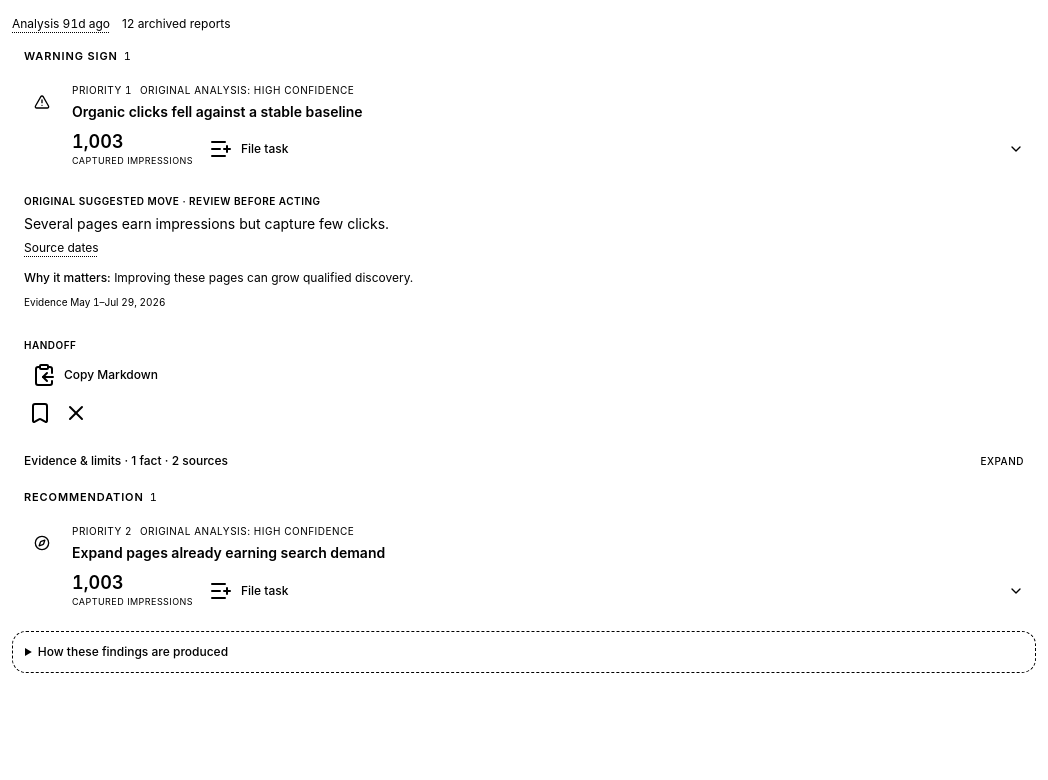
ExecutiveFindingsList decisions live in the OS › answers a dismissal with Undo instead of a reversibility sentence
Click the button named "Dismiss" at (76, 413), box x1=60 y1=397 x2=92 y2=429
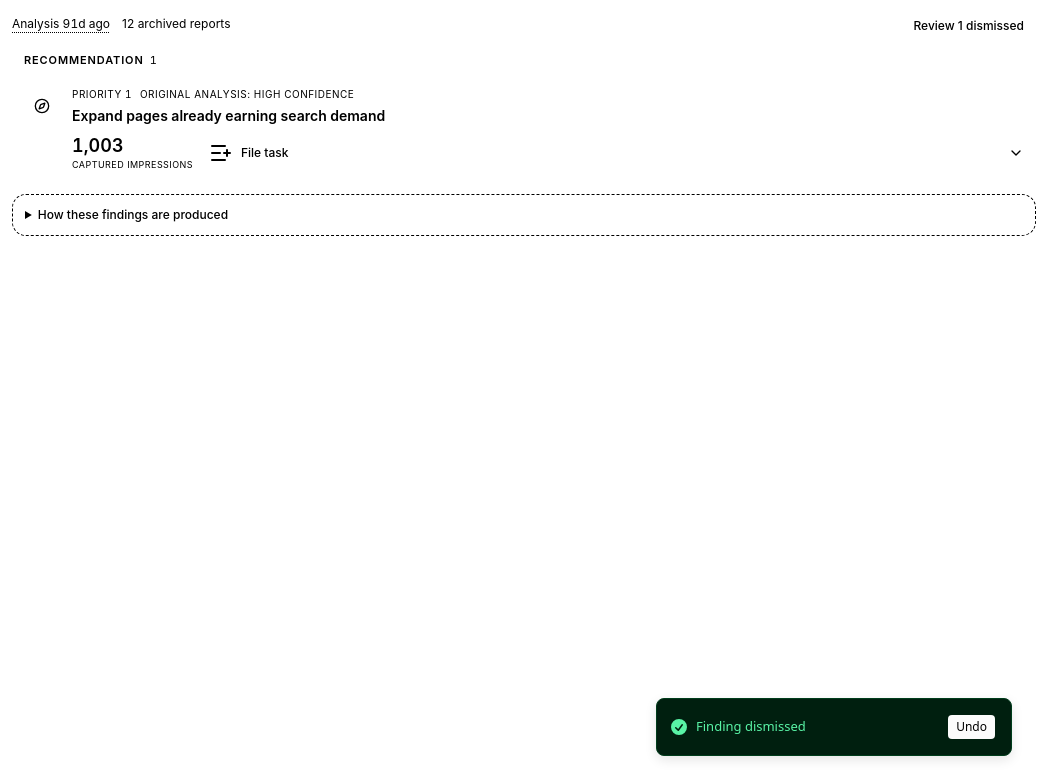
Click the button "Undo" at (972, 727), box x1=948 y1=715 x2=995 y2=739
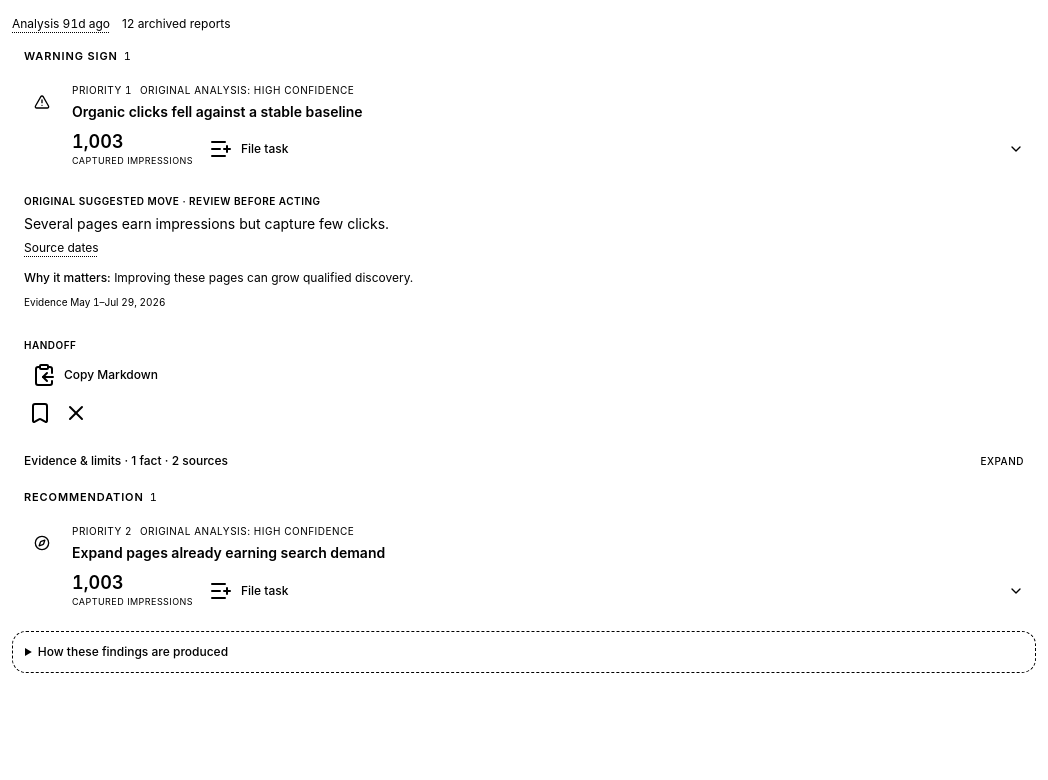
Check: the number of buttons named "Dismiss" is 2
